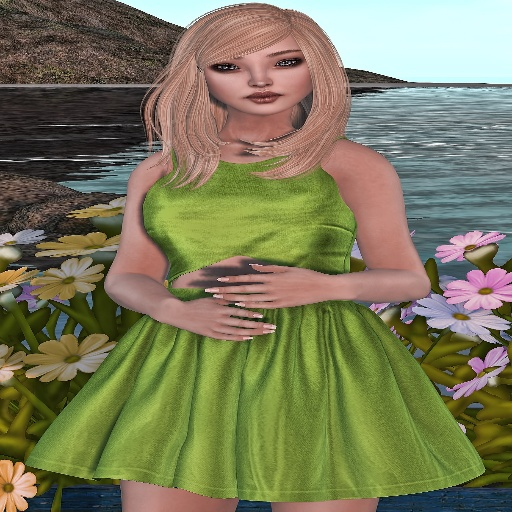hand: (203, 262, 340, 309), (140, 293, 277, 336)
